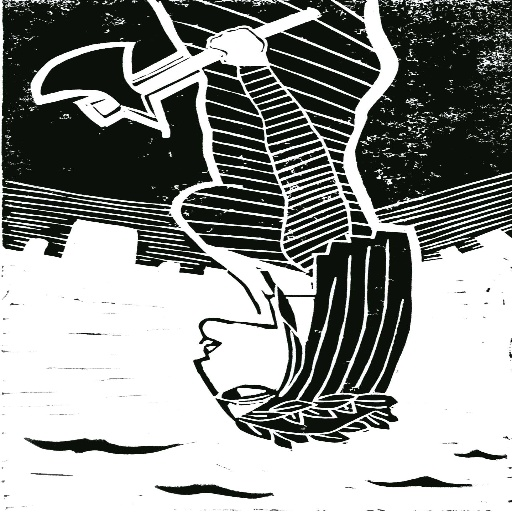hand: (206, 26, 262, 54)
